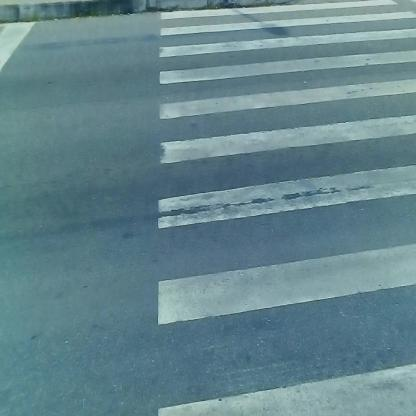crosswalk: (154, 11, 415, 412)
